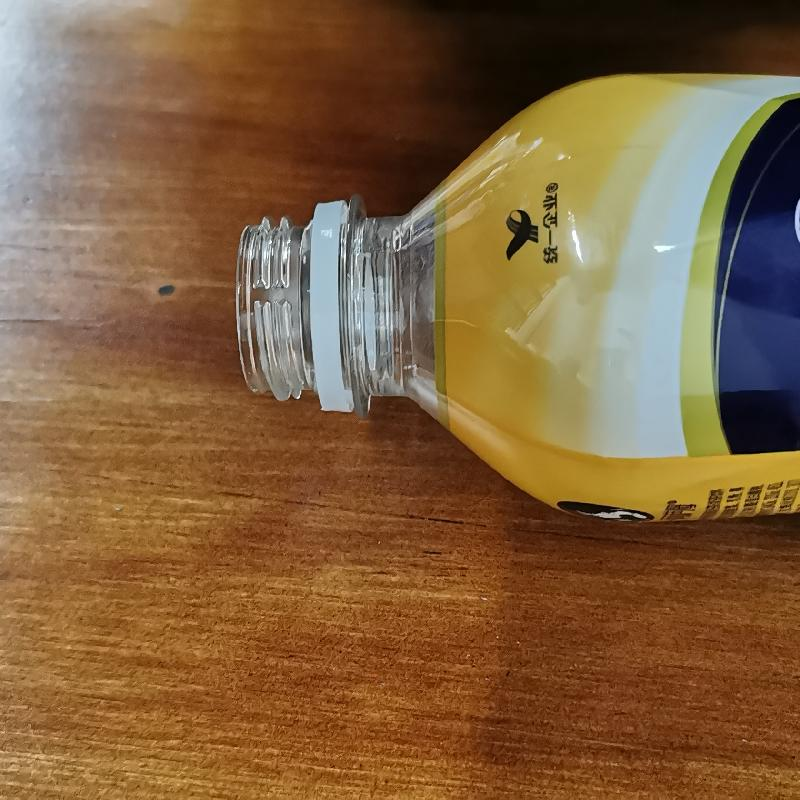bottles: (184, 67, 799, 543)
